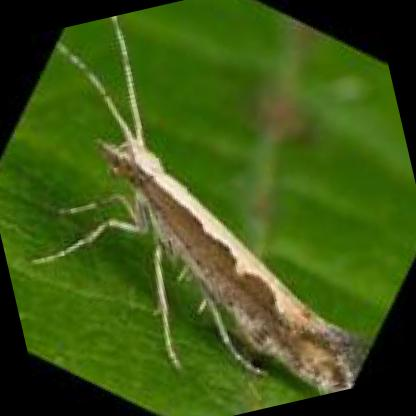plutella: (17, 16, 375, 390)
